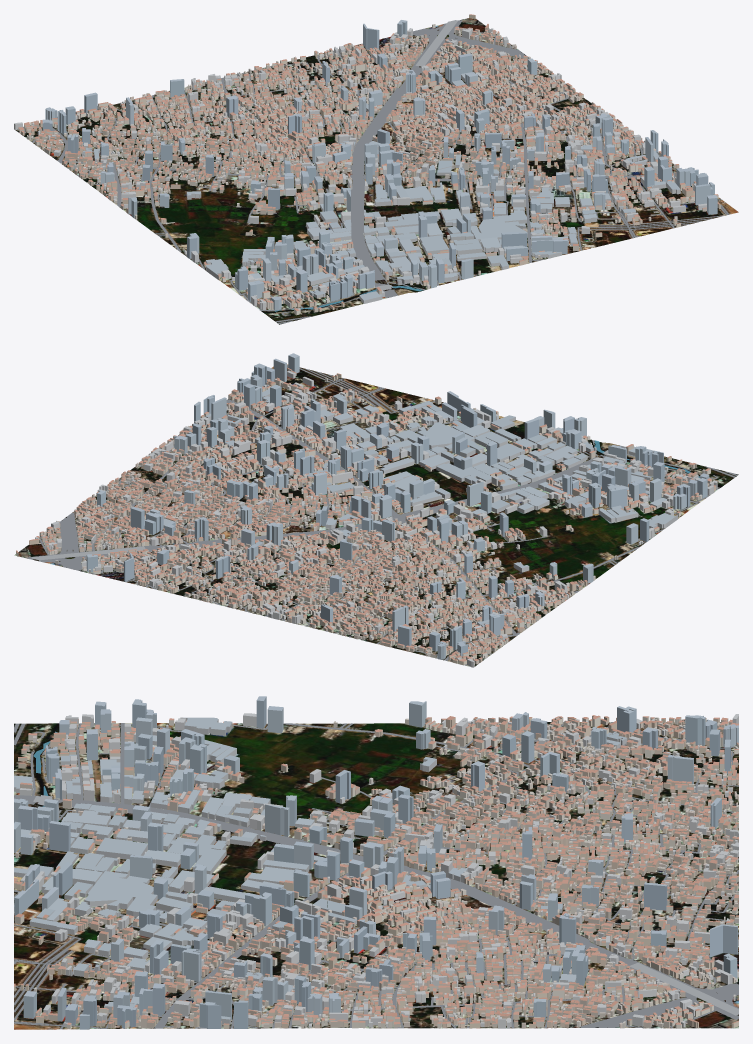
3 views of the same model, one above another, from view 1: azimuth 30°, elevation 25°; view 2: azimuth 150°, elevation 25°; view 3: azimuth 270°, elevation 25° (orthographic). The views are drawn at different scales.
Parts seen in each view (by area): view 1: BLDG_SHOPHOUSE, TERRAIN, BLDG_MODERN_TOWER, BLDG_TUBE_HOUSE, BLDG_INDUSTRIAL_PORT, BLDG_APARTMENT, ROAD_METRO; view 2: BLDG_SHOPHOUSE, BLDG_MODERN_TOWER, TERRAIN, BLDG_INDUSTRIAL_PORT, BLDG_TUBE_HOUSE, BLDG_APARTMENT, ROAD_METRO; view 3: BLDG_SHOPHOUSE, BLDG_MODERN_TOWER, TERRAIN, BLDG_INDUSTRIAL_PORT, BLDG_TUBE_HOUSE, BLDG_APARTMENT, ROAD_METRO.
Boxes of the visible parts, bbox=[...] form: BLDG_SHOPHOUSE: bbox=[18, 14, 720, 315]; TERRAIN: bbox=[15, 18, 738, 324]; BLDG_MODERN_TOWER: bbox=[42, 20, 717, 309]; BLDG_TUBE_HOUSE: bbox=[27, 24, 693, 312]; BLDG_INDUSTRIAL_PORT: bbox=[81, 72, 680, 303]; BLDG_APARTMENT: bbox=[14, 28, 706, 309]; ROAD_METRO: bbox=[23, 20, 728, 323]; BLDG_SHOPHOUSE: bbox=[16, 368, 716, 665]; BLDG_MODERN_TOWER: bbox=[86, 353, 709, 659]; TERRAIN: bbox=[14, 364, 738, 666]; BLDG_INDUSTRIAL_PORT: bbox=[144, 388, 677, 629]; BLDG_TUBE_HOUSE: bbox=[35, 377, 708, 661]; BLDG_APARTMENT: bbox=[48, 370, 717, 667]; ROAD_METRO: bbox=[27, 365, 737, 665]; BLDG_SHOPHOUSE: bbox=[14, 715, 738, 1028]; BLDG_MODERN_TOWER: bbox=[14, 696, 738, 1029]; TERRAIN: bbox=[14, 722, 738, 1029]; BLDG_INDUSTRIAL_PORT: bbox=[14, 717, 627, 1025]; BLDG_TUBE_HOUSE: bbox=[15, 717, 738, 1028]; BLDG_APARTMENT: bbox=[19, 713, 738, 1028]; ROAD_METRO: bbox=[14, 722, 738, 1029].
Bounding box in the file's own units: 2000 × 96.94 × 2000.
8 materials, 1 textured.
